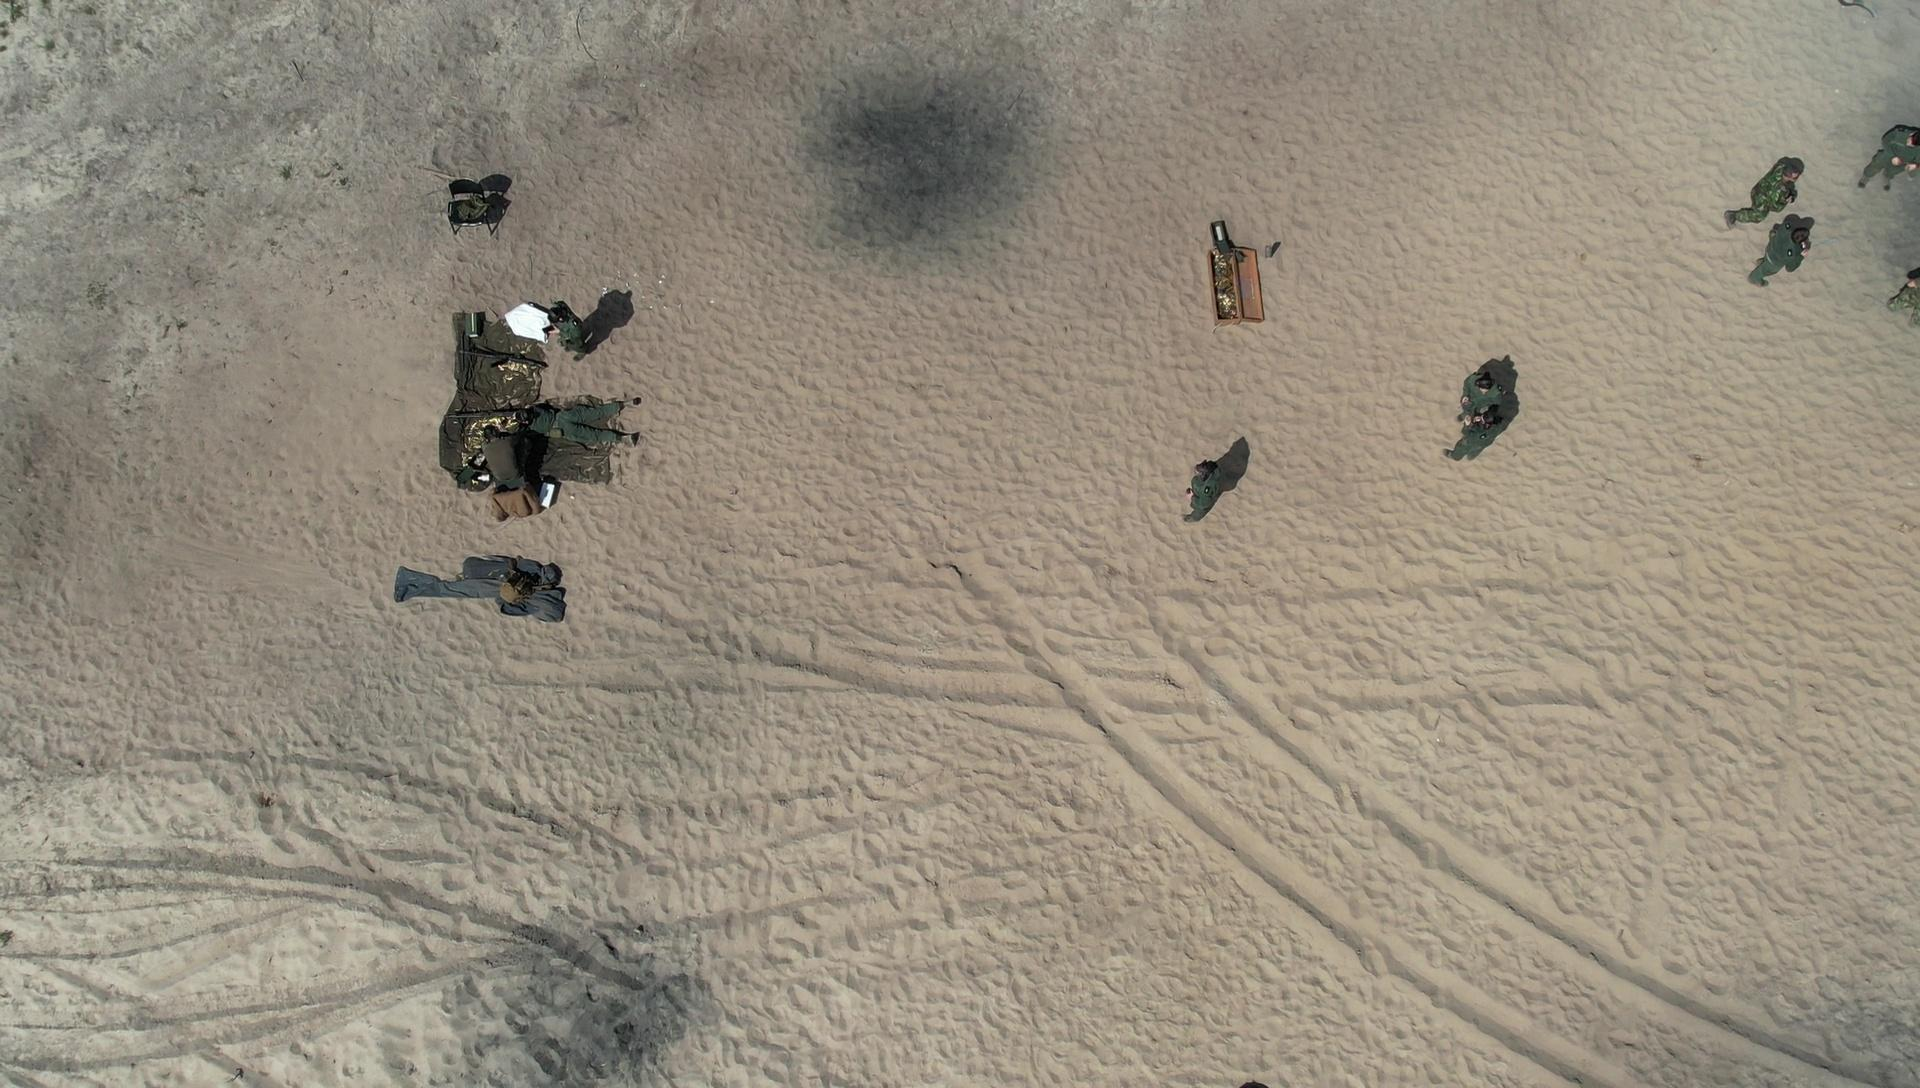Soldier: (489, 396, 640, 466), (1170, 438, 1267, 530), (1741, 203, 1836, 289), (1726, 166, 1826, 233), (545, 295, 615, 371), (491, 421, 556, 499), (1457, 388, 1509, 466), (1466, 356, 1524, 415)
